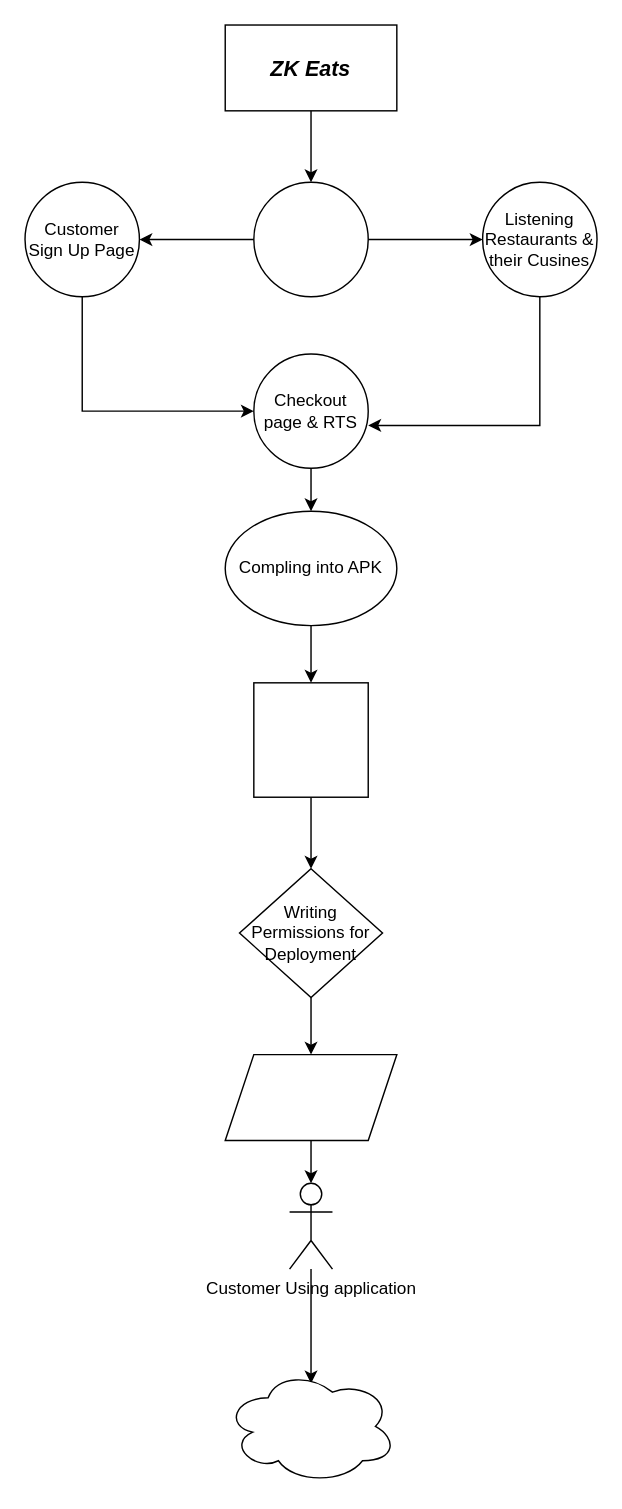
This 622x1509 diagram has some shape labels left out. Here are the shapes that lost their labels. From the top down, the centre of each, then its label:
At point 310,239: "Design UI/UX".
At point 310,739: "No Bugs Found".
At point 310,1096: "Pushing APK to Cloud / App Store".
At point 310,1426: "No Feedback Received".
